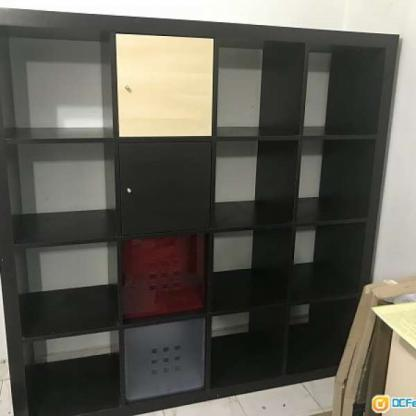lamp: (0, 6, 401, 416)
